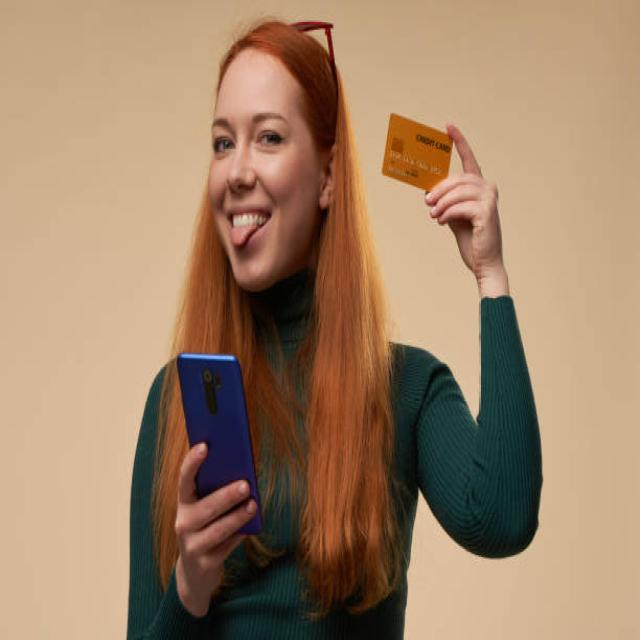tongue: (230, 220, 257, 246)
